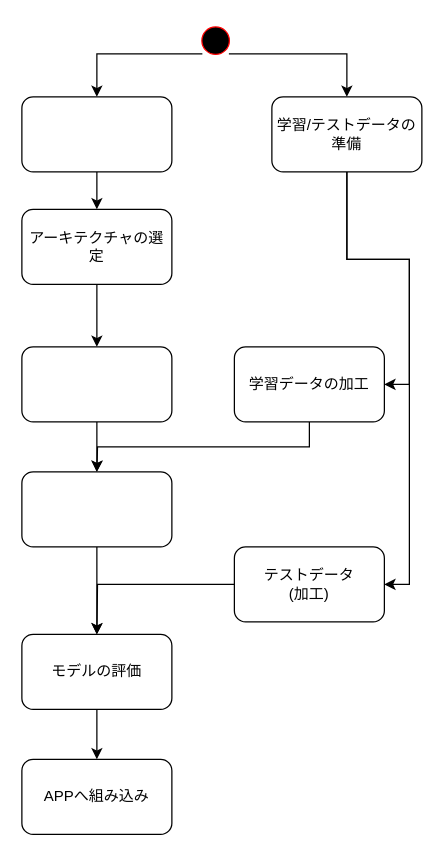
Image size: 444x856. Some labels were removed from this diagram. The shapes that lost their labels are listed below. From the top down, each one's box as (x1, y1, x2, y2) in pixels, then its label:
(21, 96, 172, 172): 開発環境の準備
(21, 346, 172, 422): ネットワークの構成
(21, 471, 172, 547): 学習
